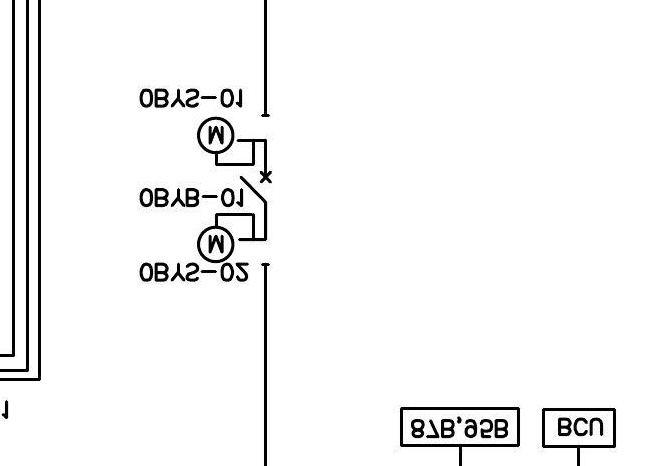115_1way_ds_w_motor: (196, 213, 270, 267), (196, 113, 271, 166)
115_breaker: (239, 170, 273, 204)
BCU: (541, 407, 617, 449)
